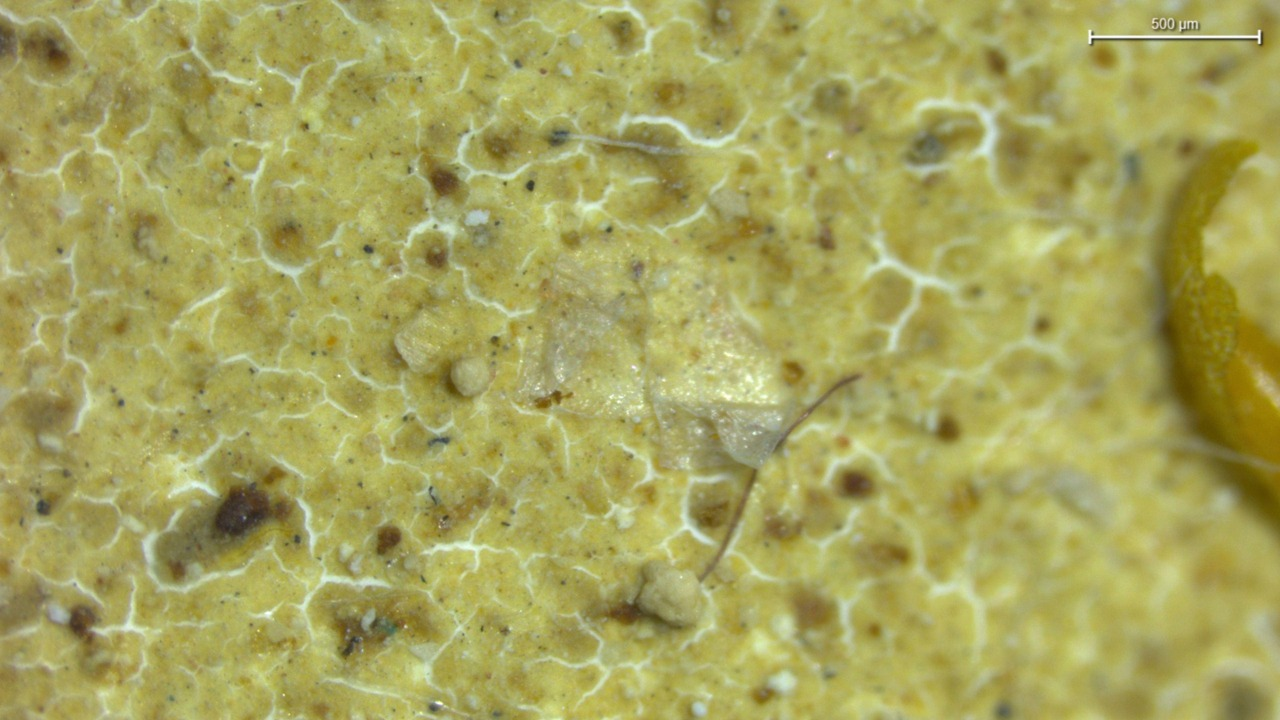microplastic_fragment: (635, 561, 701, 627), (450, 357, 492, 397)
